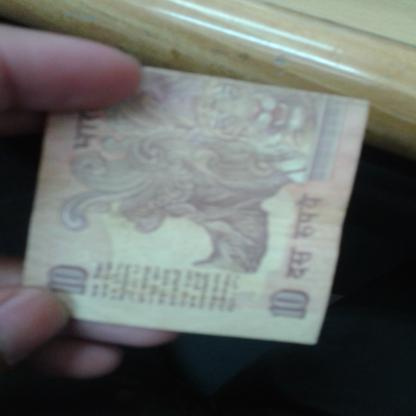Old10Back: (20, 66, 372, 346)
